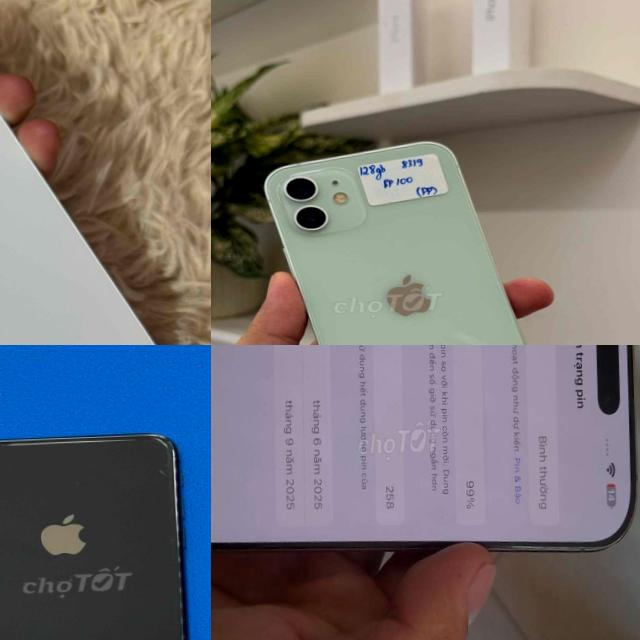gen_12_13: (259, 135, 556, 345)
gen_16: (211, 345, 636, 549), (0, 0, 188, 345)
gen_x_xs: (0, 431, 185, 640)
